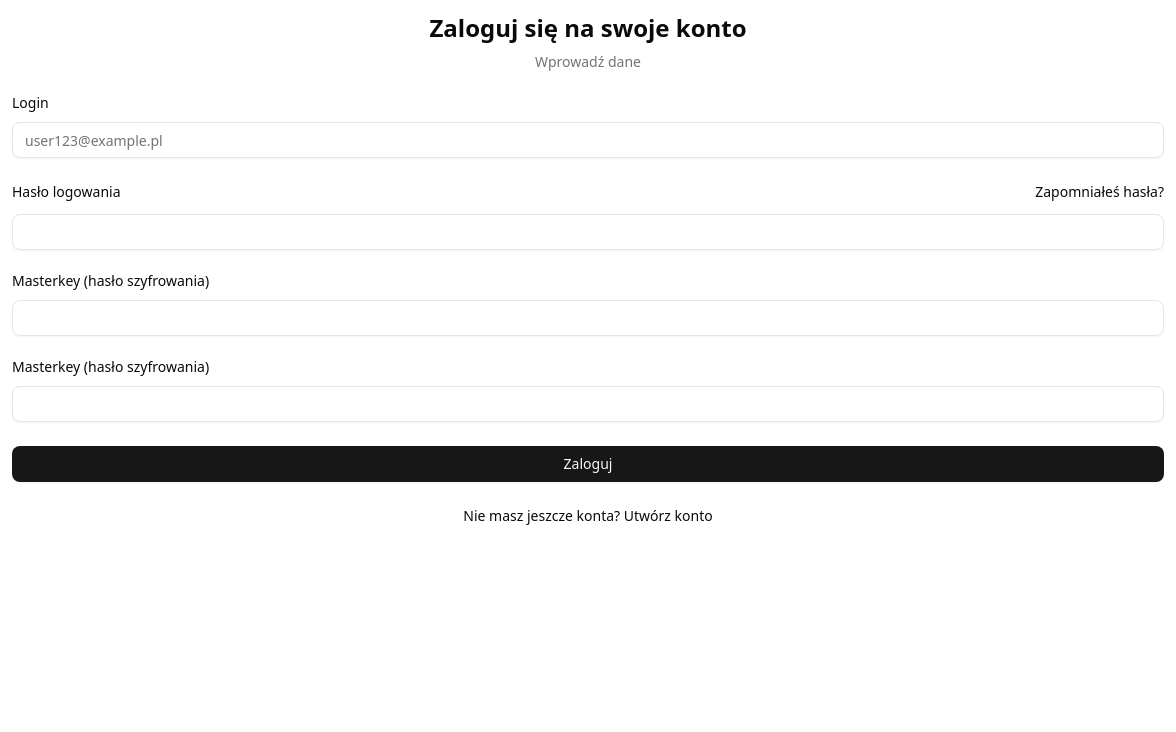
Test case: LoginForm › wyświetla błąd walidacji dla nieprawidłowego emaila
Type "invalid.email" into the field labelled "Login" at (588, 140), box [12, 122, 1164, 158]
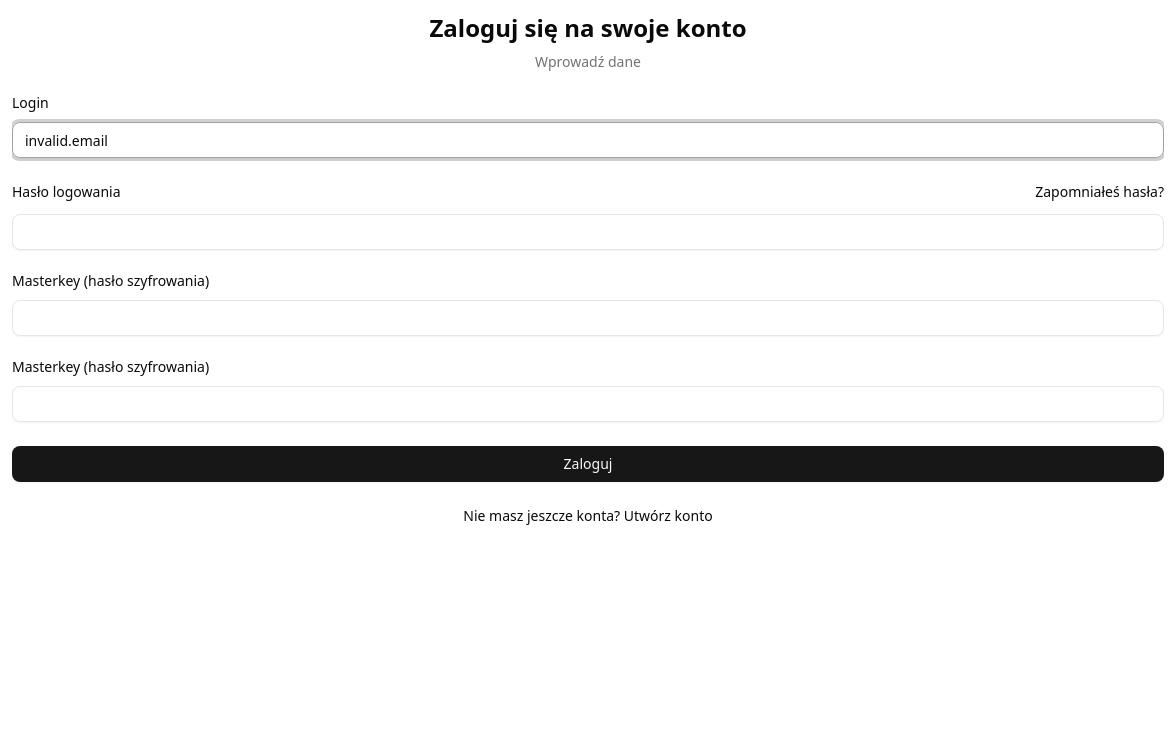
Click the button "Zaloguj" at (588, 464), box [12, 446, 1164, 482]
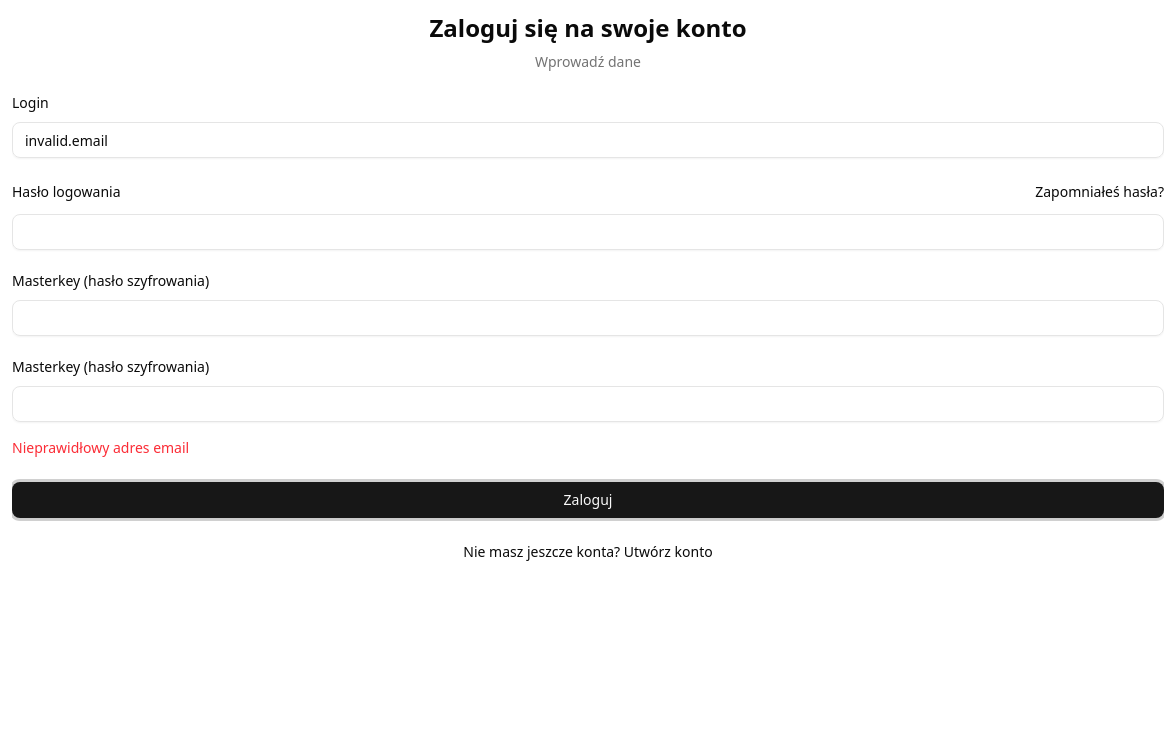
Result: the text "Nieprawidłowy adres email" is shown at [12, 438, 189, 457]
